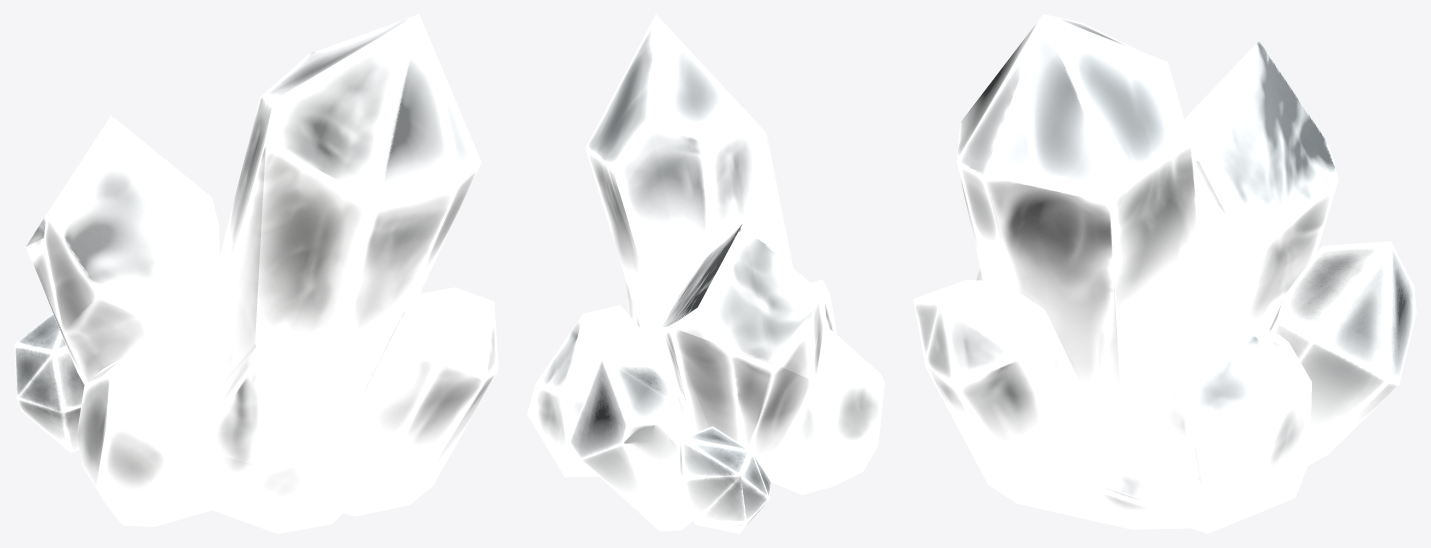
Rendered from crystal_chunk_001.fbx.
3 views of the same model, side by side, from view 1: azimuth 30°, elevation 25°; view 2: azimuth 150°, elevation 25°; view 3: azimuth 270°, elevation 25° (orthographic). The views are drawn at different scales.
Visible parts, largest first — view 1: crystal_chunk.001; view 2: crystal_chunk.001; view 3: crystal_chunk.001.
Boxes of the visible parts, x1,y1,x2,y2 form: crystal_chunk.001: (14,14,498,533); crystal_chunk.001: (527,14,884,533); crystal_chunk.001: (913,14,1416,533).
Bounding box in the file's own units: 13.05 × 15.91 × 14.14.
